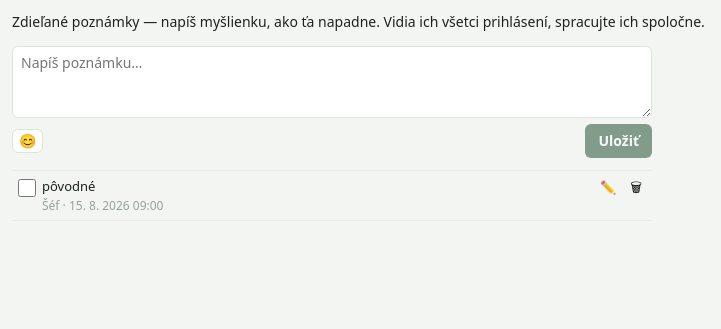
Scenario: zlyhaná úprava ukáže chybu a nechá rozpísaný text v poli
Click the text with test id "poznamka-body-n-1" at (69,186), box [42,177,95,195]
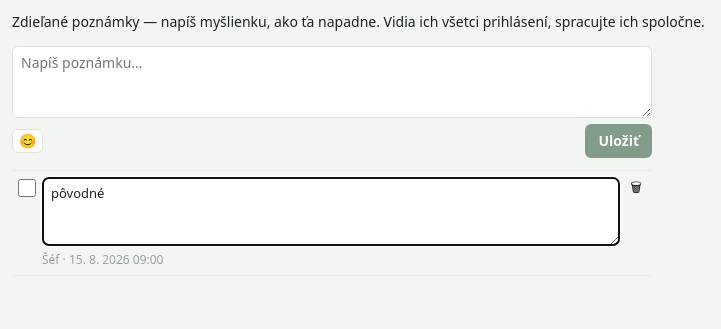
Replace the text in the text box with test id "poznamka-edit-input-n-1" with "opravené" at (331,211), box [42,177,620,246]
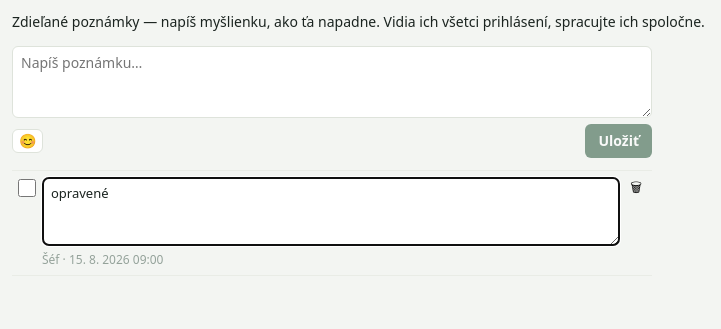
Press Enter in the text box with test id "poznamka-edit-input-n-1", box [42,177,620,246]
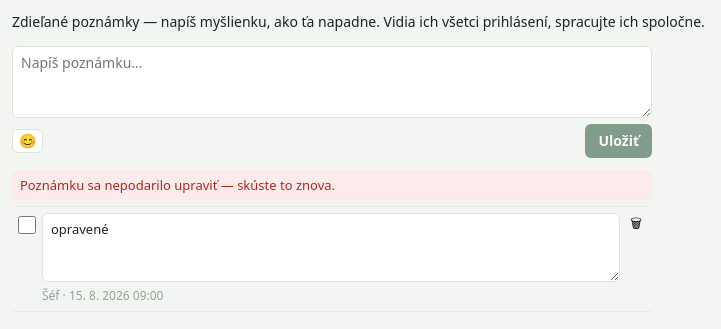
Expected: the message shows "nepodarilo", [20,176,335,194]
